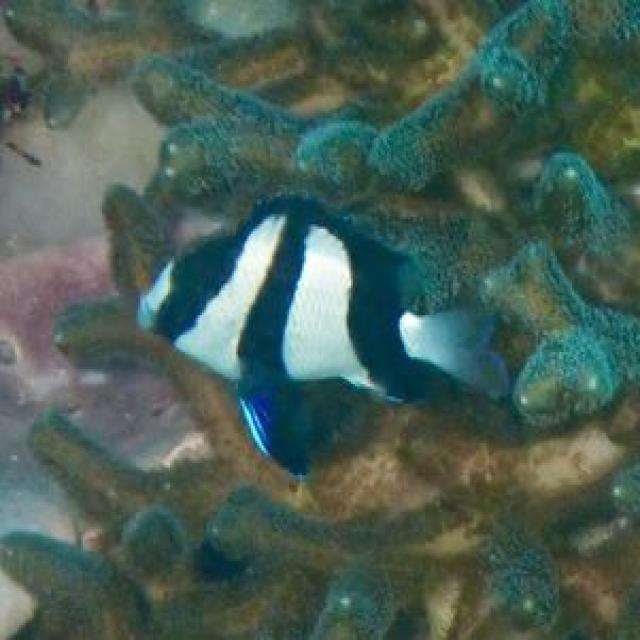ThreeStripedDamselfish: (136, 197, 512, 480)
